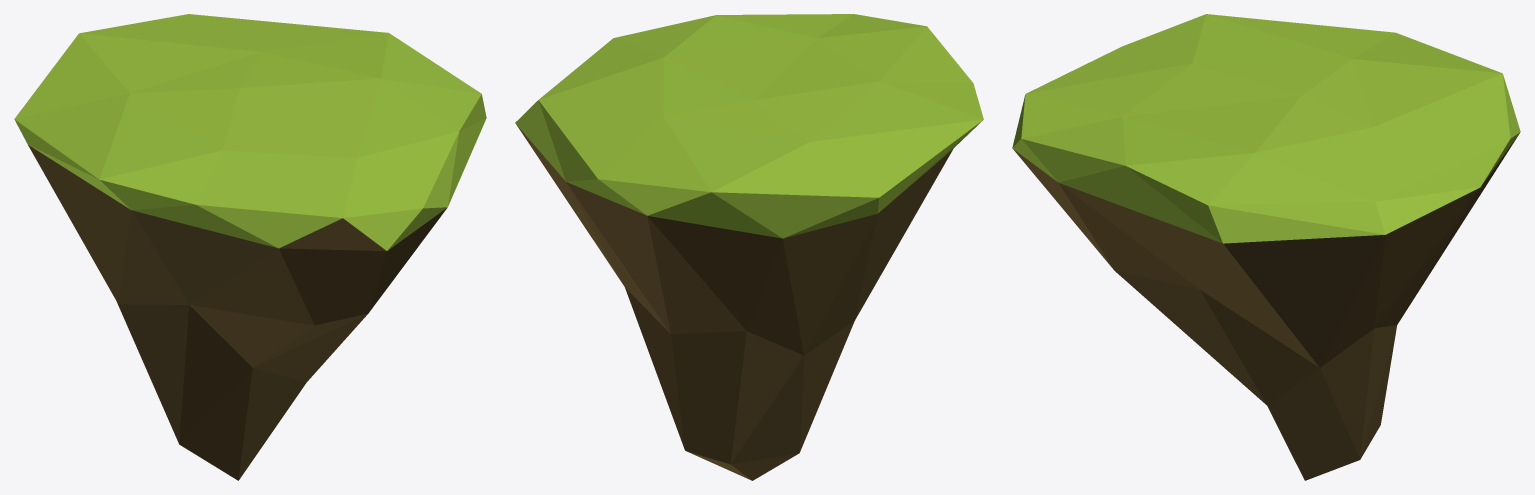
The model's file is ostrovok1.fbx.
The picture shows the model from 3 angles, left to right: view 1: azimuth 30°, elevation 25°; view 2: azimuth 150°, elevation 25°; view 3: azimuth 270°, elevation 25°; orthographic projection. The views are drawn at different scales.
Visible parts, largest first — view 1: Cube; view 2: Cube; view 3: Cube.
Part boxes in pixels (x1,y1,x2,y2): Cube: (14, 14, 486, 480); Cube: (515, 14, 983, 480); Cube: (1012, 14, 1520, 480).
Size of the model in its own units: 328 by 312 by 372.
